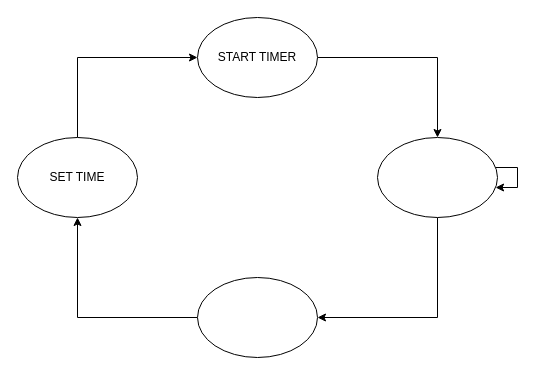
This 543x375 diagram has some shape labels left out. Each missing label, with the box of its shape:
SILENCE: (196, 276, 318, 358)
TIME COUNT: (376, 136, 498, 218)
